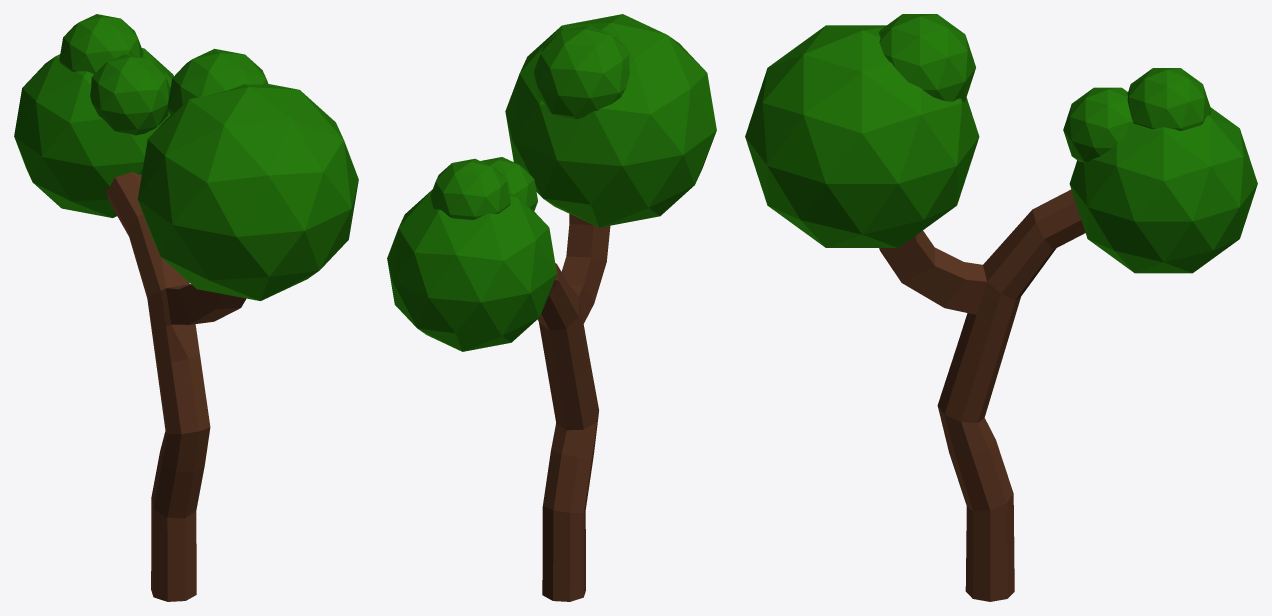
File: tree thin.fbx
3 renders of one model, left to right at view 1: azimuth 30°, elevation 25°; view 2: azimuth 150°, elevation 25°; view 3: azimuth 270°, elevation 25°, orthographic. The views are drawn at different scales.
Parts seen in each view (by area): view 1: Cylinder; view 2: Cylinder; view 3: Cylinder.
Boxes of the visible parts, bbox=[...] form: Cylinder: bbox=[14, 14, 358, 601]; Cylinder: bbox=[387, 14, 716, 601]; Cylinder: bbox=[745, 14, 1257, 601].
Bounding box in the file's own units: 911 × 2621 × 2095.
